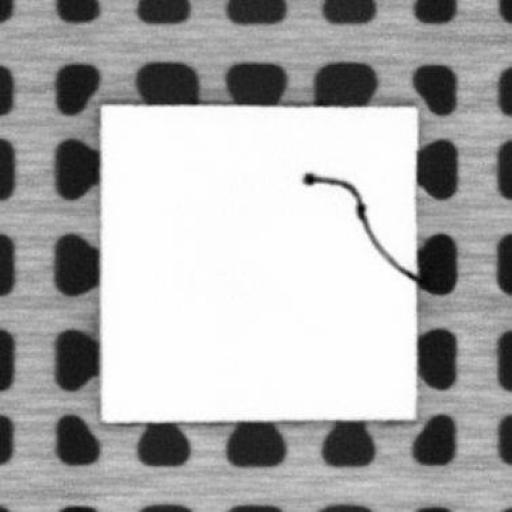DIE_INK: (301, 169, 416, 278)
